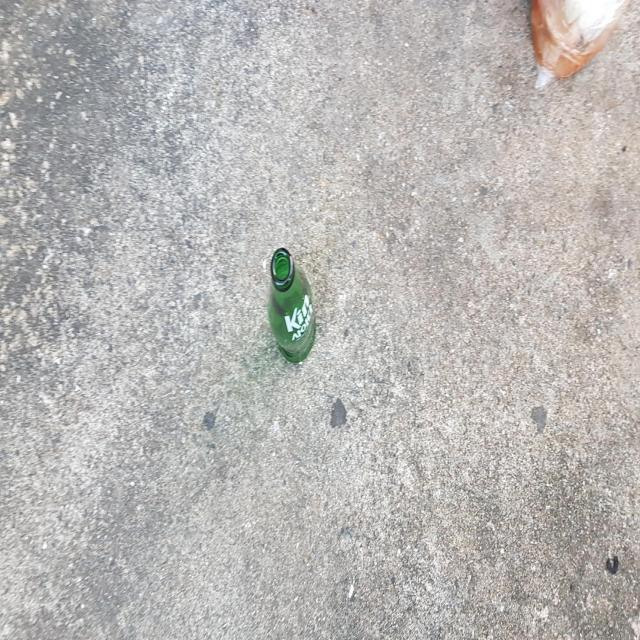glass: (268, 248, 316, 362)
